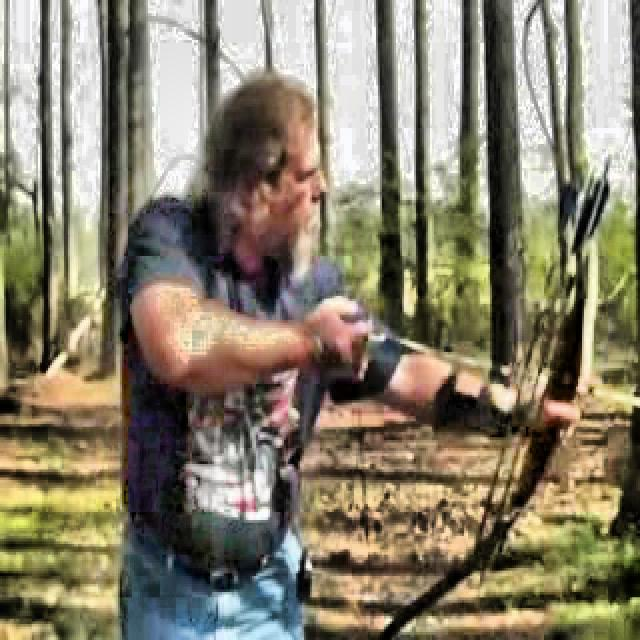I: (110, 48, 590, 560)
